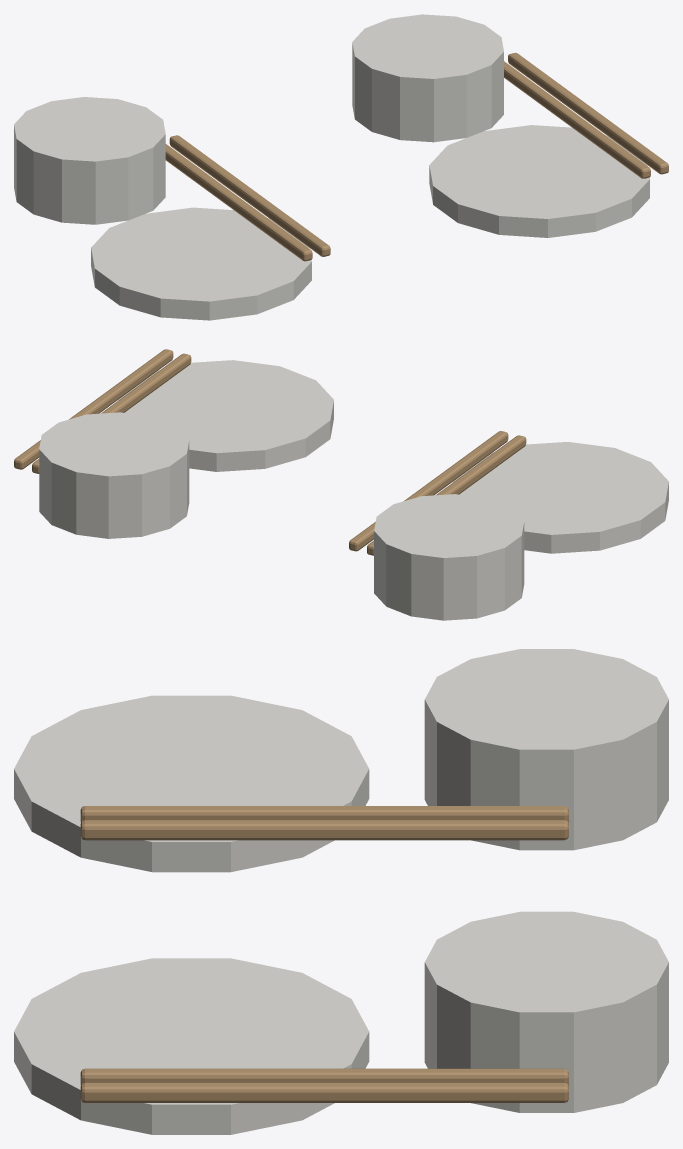
File: dec_tableware.glb
The picture shows the model from 3 angles, top to bottom: view 1: azimuth 30°, elevation 25°; view 2: azimuth 150°, elevation 25°; view 3: azimuth 270°, elevation 25°; orthographic projection. The views are drawn at different scales.
Parts seen in each view (by area): view 1: dec_tableware; view 2: dec_tableware; view 3: dec_tableware.
Boxes of the visible parts, x1=… form: dec_tableware: x1=14, y1=14, x2=668, y2=320; dec_tableware: x1=14, y1=349, x2=668, y2=620; dec_tableware: x1=14, y1=649, x2=668, y2=1134.
Size of the model in its own units: 0.437 by 0.05 by 0.295.
